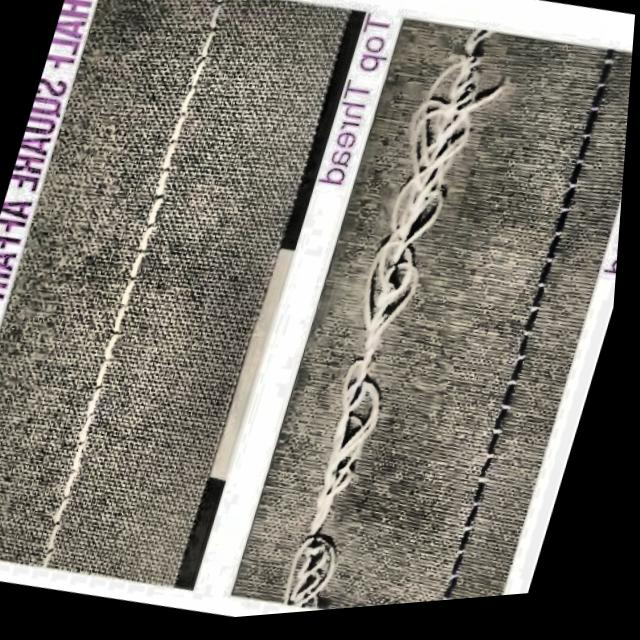Stitch: (344, 42, 510, 370), (269, 380, 418, 620)
